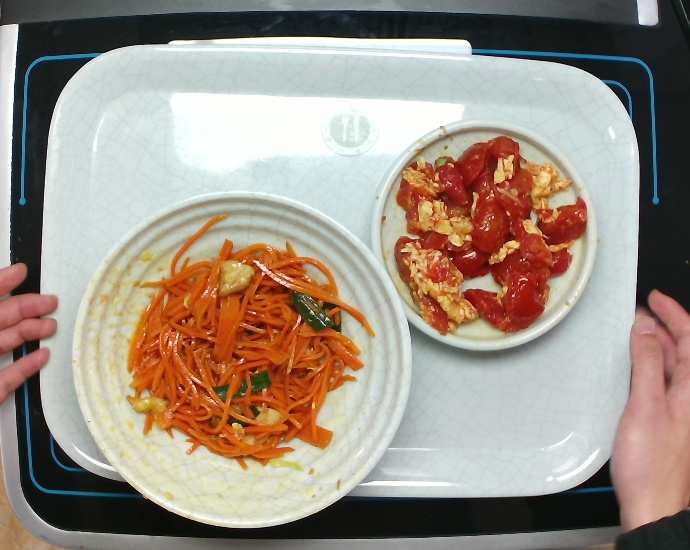JYsf-Da_Tang_Wan: (68, 186, 422, 533)
JYsf-Xiao_Yuan_Pan: (360, 114, 601, 363)
